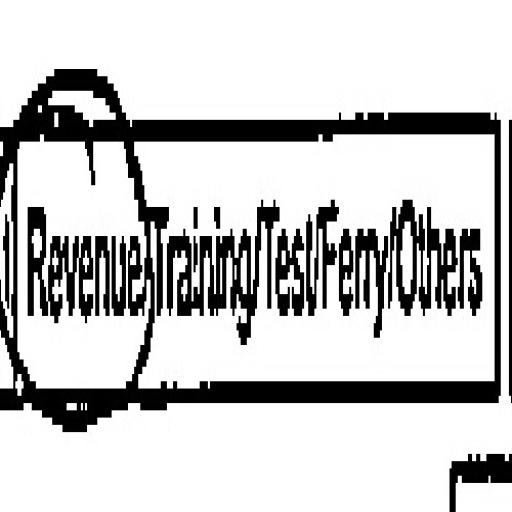check: (13, 80, 143, 485)
